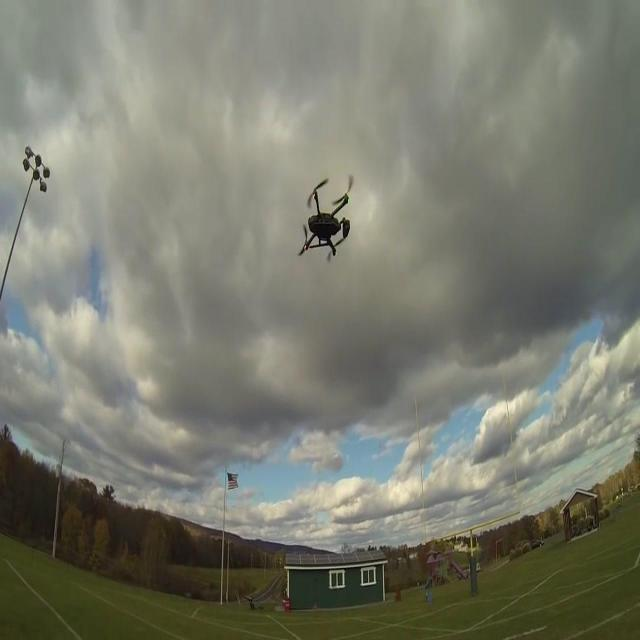UAV: (298, 174, 354, 262)
